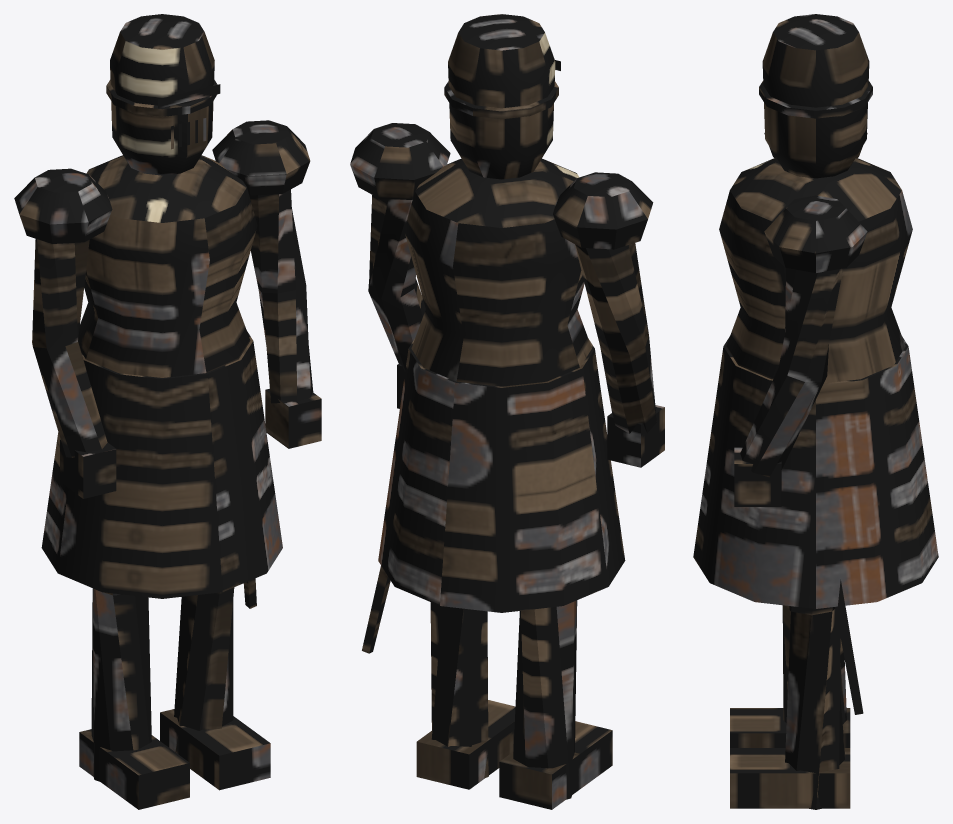
Rendered from chevalier.fbx.
The picture shows the model from 3 angles, left to right: view 1: azimuth 30°, elevation 25°; view 2: azimuth 150°, elevation 25°; view 3: azimuth 270°, elevation 25°; orthographic projection. The views are drawn at different scales.
Parts seen in each view (by area): view 1: chevalier; view 2: chevalier; view 3: chevalier.
Boxes of the visible parts, box(x1,y1,x2,y2) form: chevalier: box(14, 14, 321, 809); chevalier: box(350, 14, 664, 809); chevalier: box(693, 14, 938, 809).
Bounding box in the file's own units: 0.78 × 1.92 × 0.57.
1 material, 1 textured.
